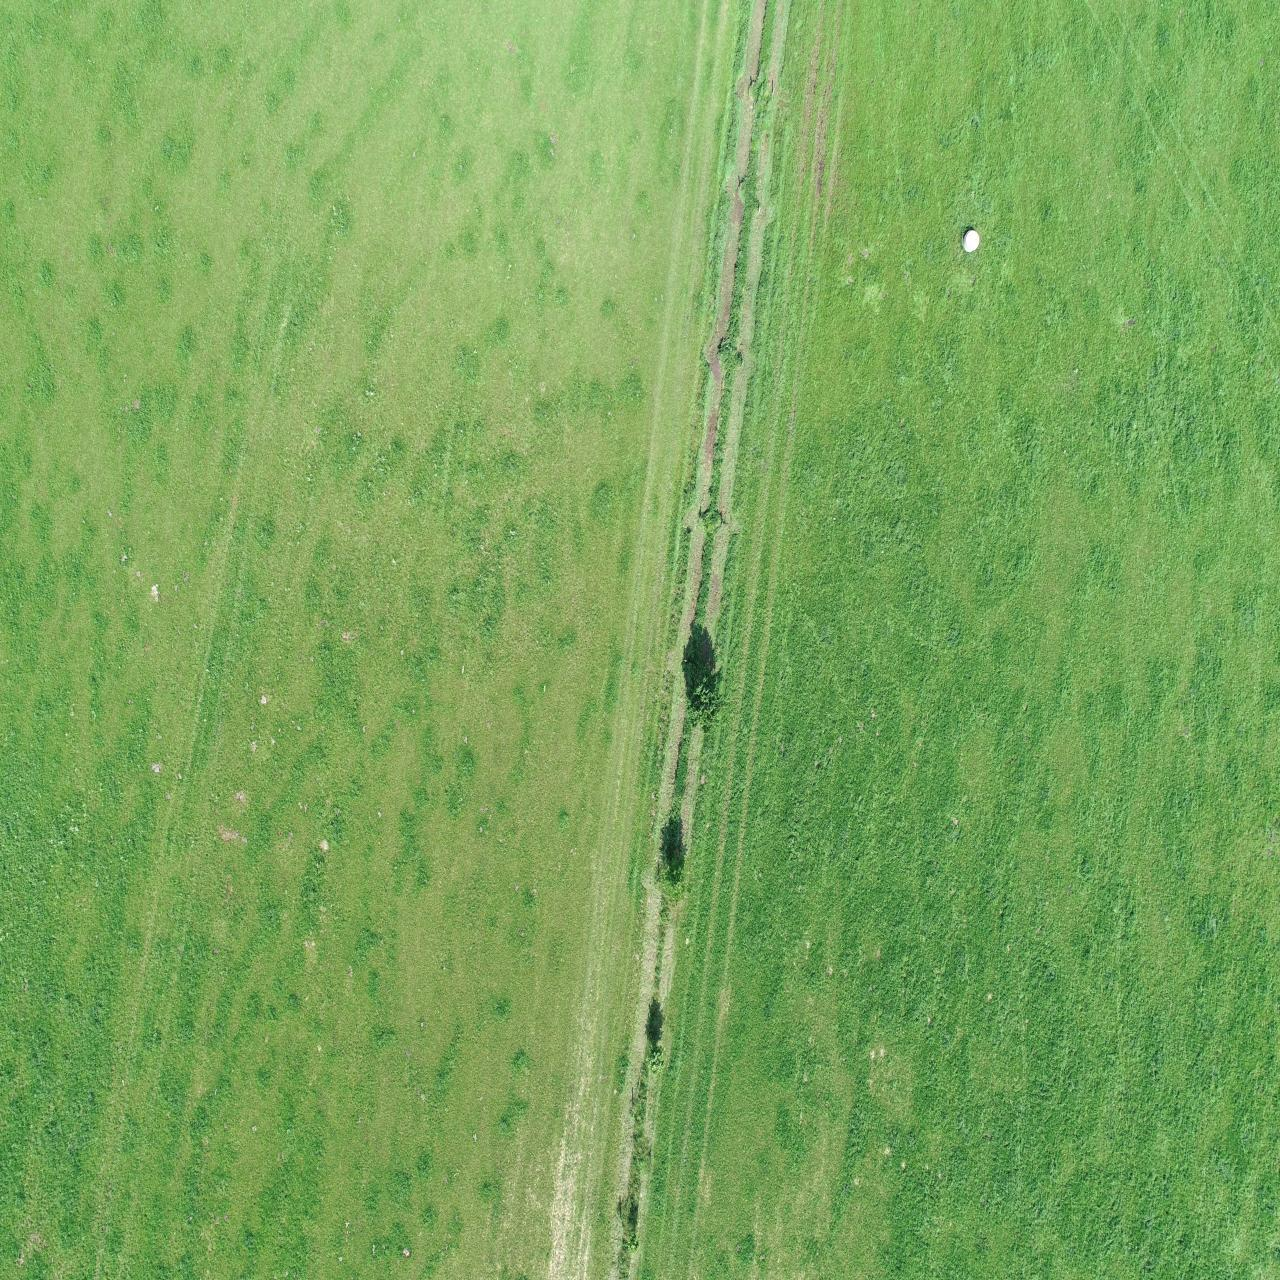cow: (989, 89, 1040, 150), (1196, 67, 1251, 118), (1177, 381, 1214, 450), (1177, 0, 1217, 64), (1166, 110, 1203, 179), (1212, 326, 1246, 399), (1102, 474, 1145, 527), (908, 46, 941, 116), (1001, 300, 1041, 358), (822, 233, 850, 314), (817, 49, 858, 104), (702, 6, 741, 62), (1182, 576, 1210, 648), (1071, 52, 1102, 116), (461, 35, 511, 73), (740, 94, 787, 129), (869, 170, 915, 205), (1148, 279, 1171, 348), (708, 185, 728, 261), (758, 893, 779, 959)
